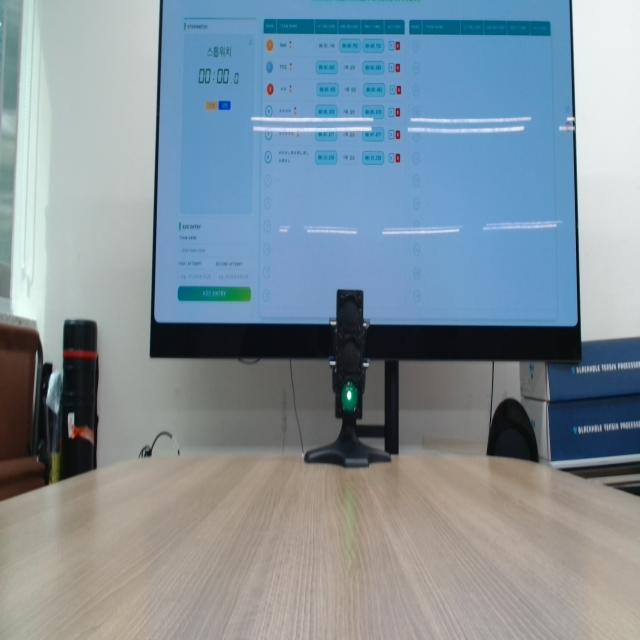green_light: (341, 382, 358, 413)
